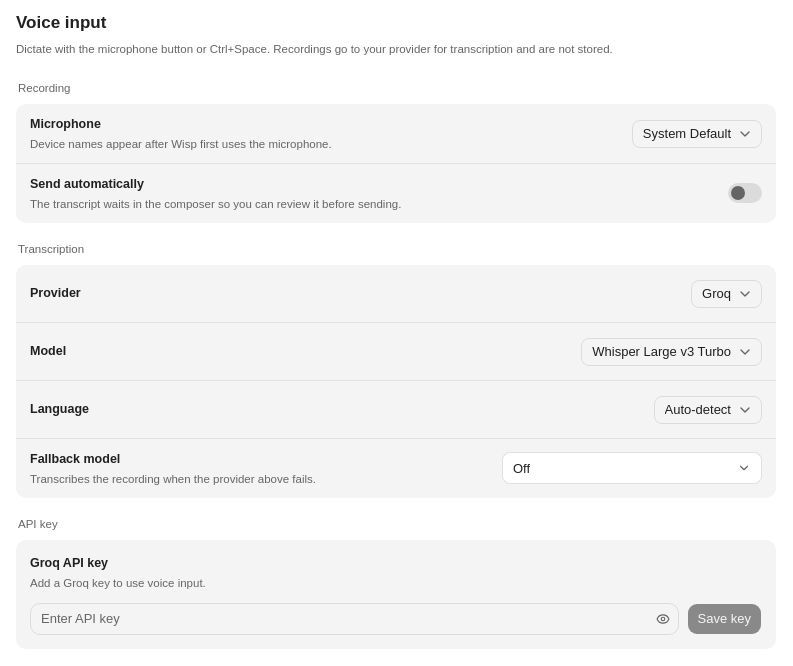
Test: VoiceSettingsSection › saves a key for the selected provider without keeping it in the form
Check: the text "Add a Groq key to use voice input." is shown, box [30,577,206,589]
Type "gsk-secret" into the password field labelled "Groq API key" at (354, 619), box [30,603,678,635]
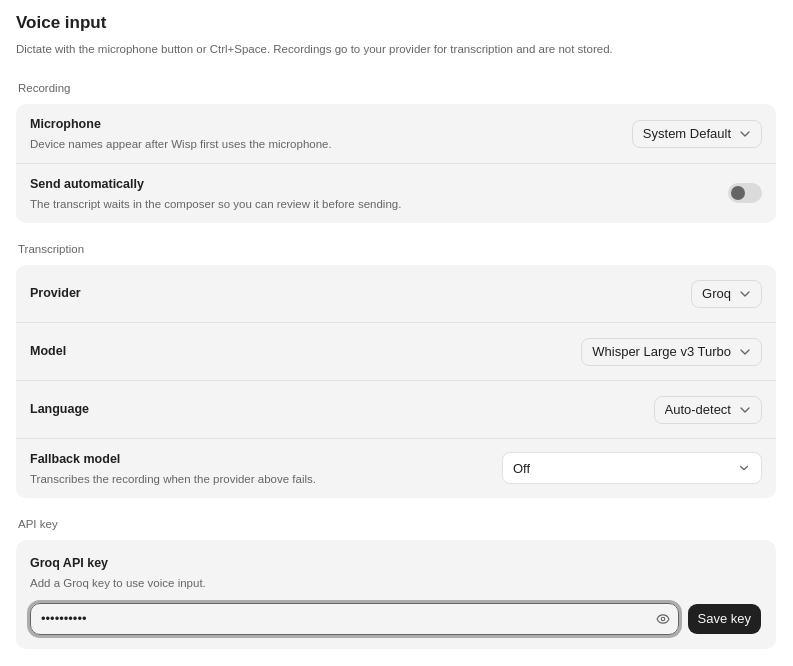
Click the button "Save key" at (724, 619), box [686,603,762,635]
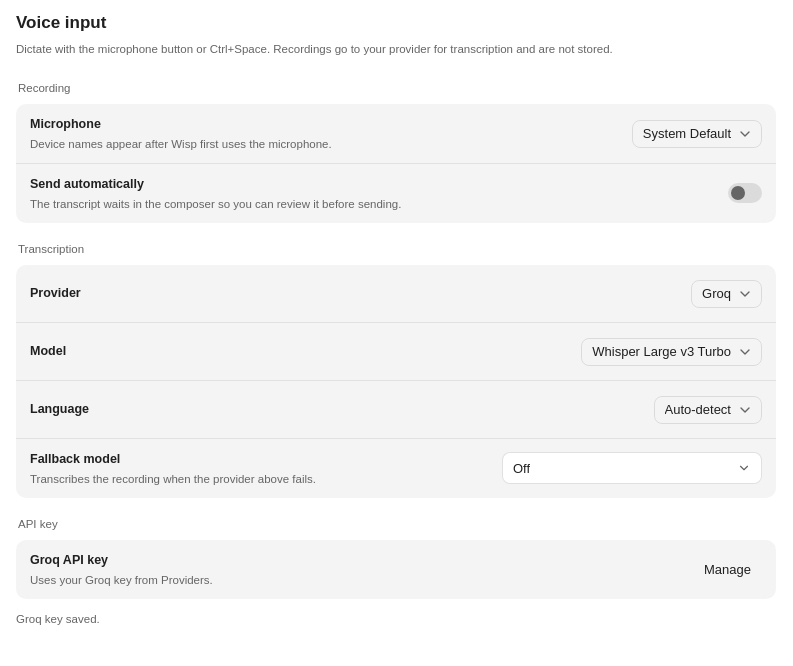
Check: the text "Groq key saved." is shown, box [16,611,100,628]
Check: the text "Uses your Groq key from Providers." is shown, box [30,574,213,586]
